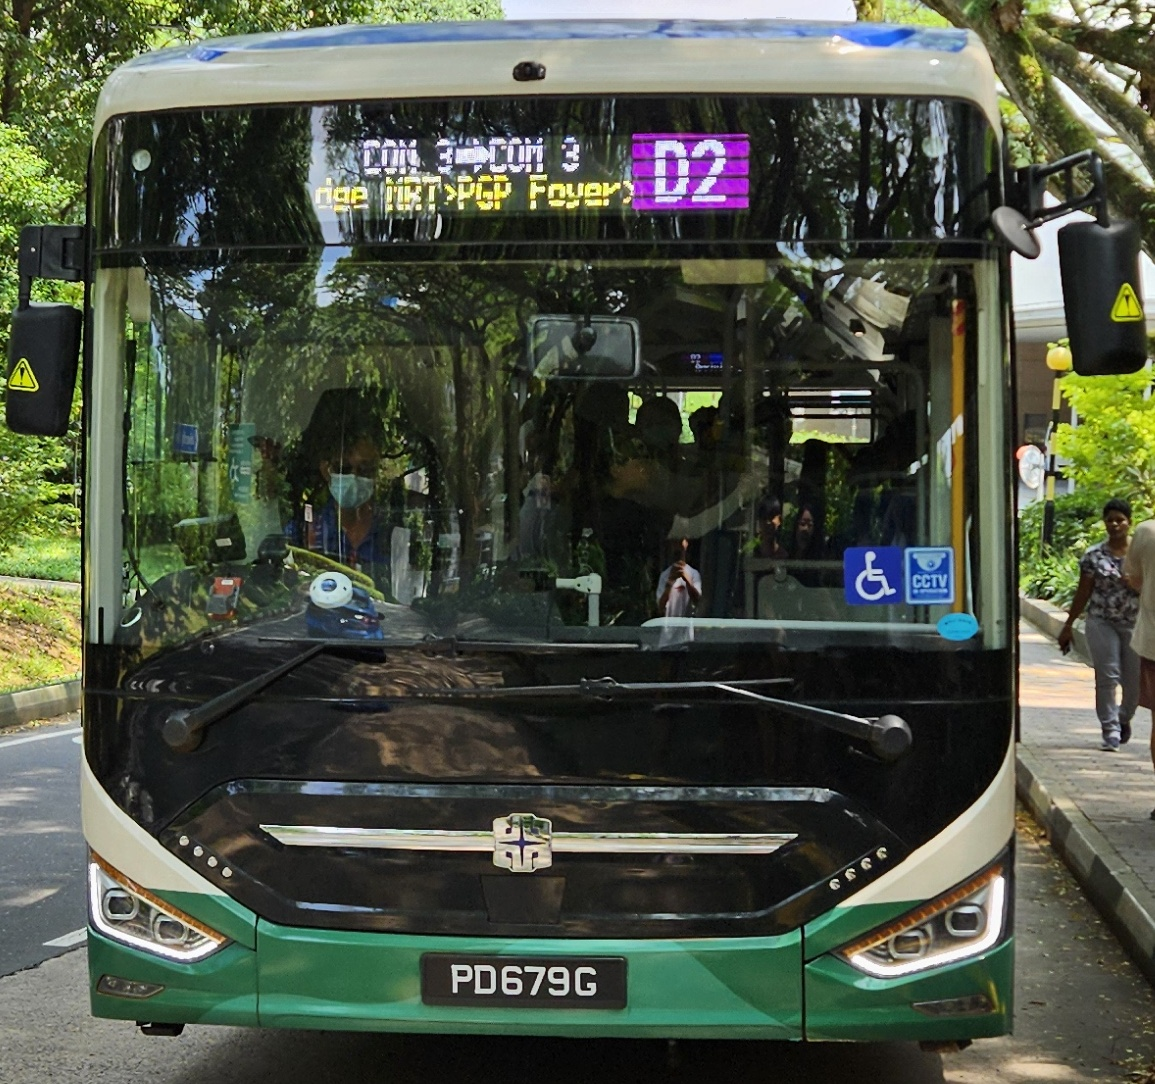bus: (632, 131, 745, 209)
